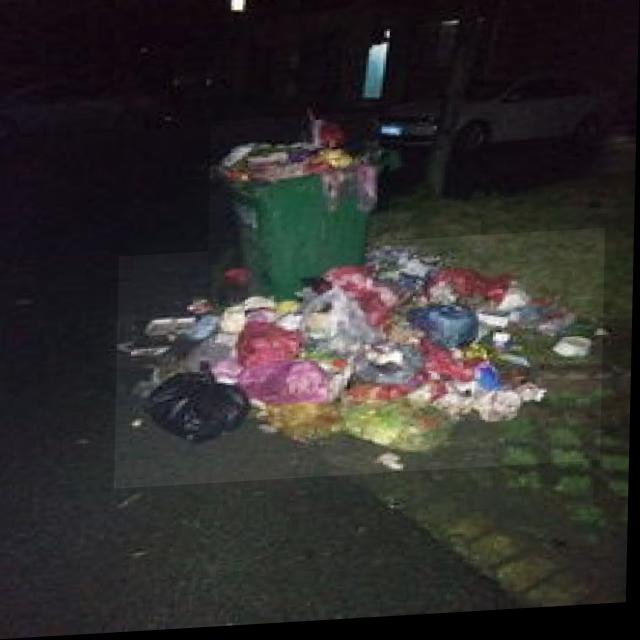garbage: (116, 236, 607, 491)
overflow: (209, 117, 380, 307)
